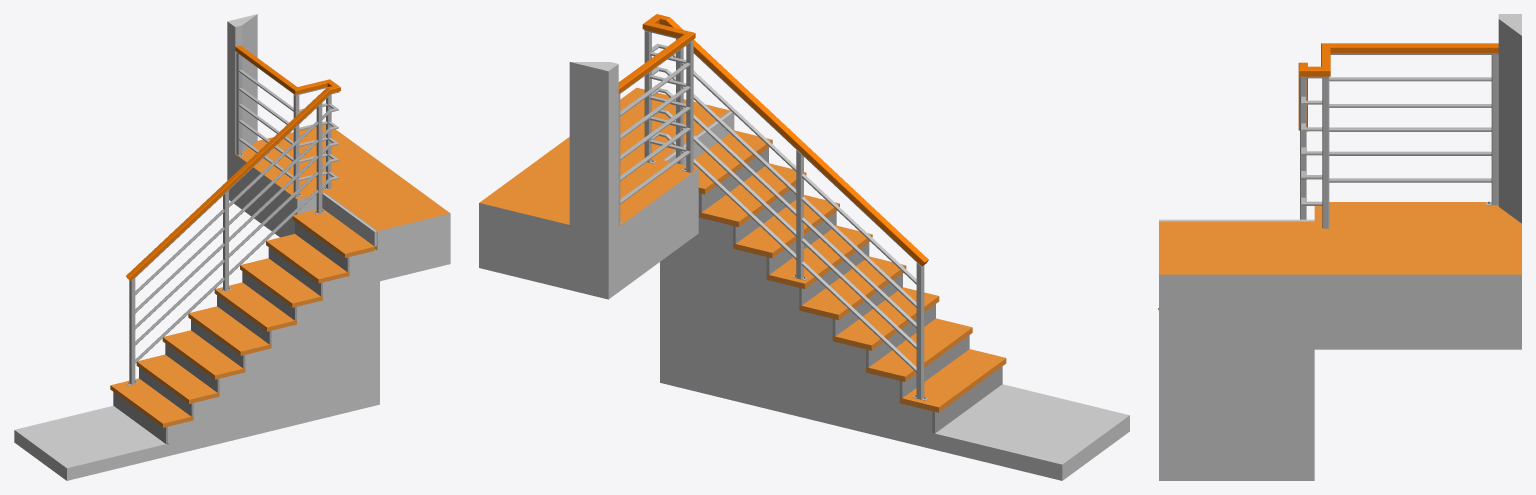
File: Ограждение.obj
3 renders of one model, left to right at view 1: azimuth 30°, elevation 25°; view 2: azimuth 150°, elevation 25°; view 3: azimuth 270°, elevation 25°, orthographic. The views are drawn at different scales.
Size of the model in its own units: 3.8 by 2.84 by 2.11.
